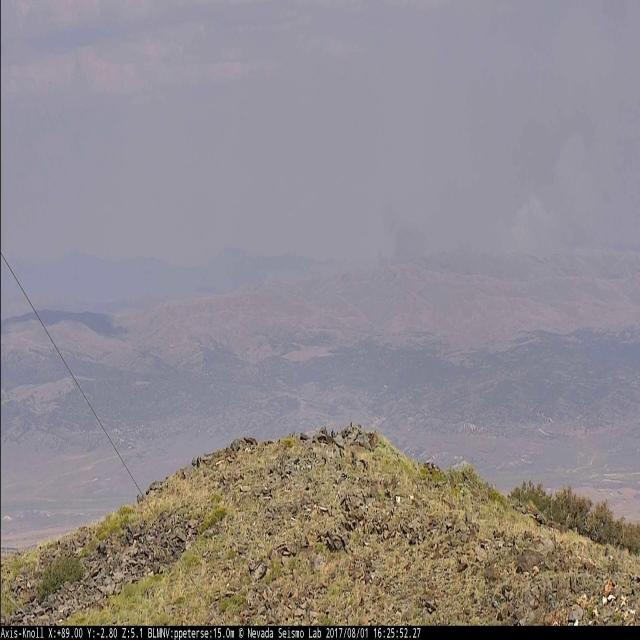smoke: (376, 90, 640, 266)
